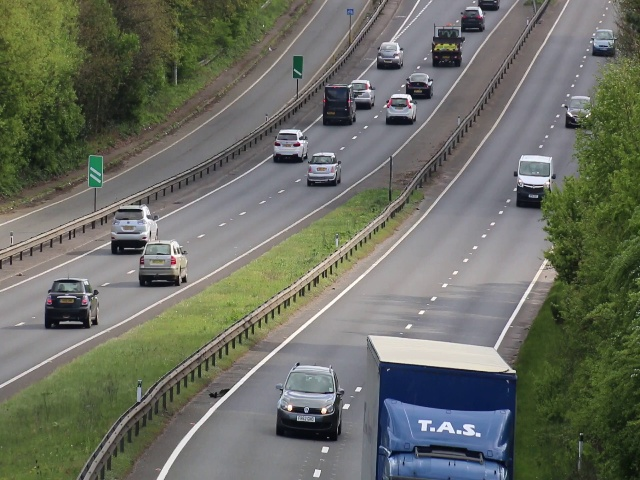car: (380, 402, 514, 480), (277, 362, 343, 443), (44, 279, 100, 331), (140, 239, 190, 288), (110, 206, 160, 252), (514, 152, 553, 208), (430, 25, 465, 66), (322, 86, 356, 126), (307, 150, 342, 187), (271, 128, 309, 162), (386, 92, 417, 126), (374, 38, 403, 71), (404, 69, 433, 98), (565, 94, 591, 126), (350, 78, 377, 107), (460, 6, 487, 32), (591, 28, 614, 54)
